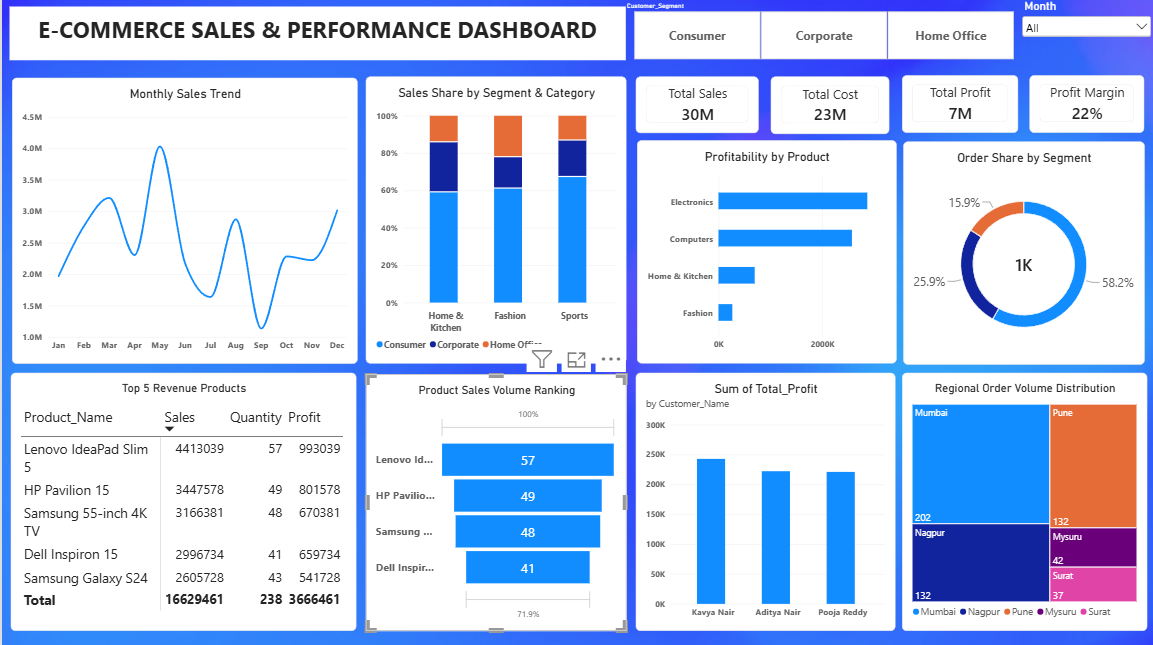

The dashboard page shown, as its layout file describes it:
{"tool":"powerbi","page":{"name":"Page 1","canvas":[1920,1080],"ordinal":0},"visuals":[{"type":"cardVisual","fields":{"Data":["Sum(Orders.Total_Sales)"]},"box":[1056.5,128.3,205,94],"z":0},{"type":"cardVisual","fields":{"Data":["Avg(Orders.Profit_Margin)"]},"box":[1713,126.1,191.3,95.7],"z":1000},{"type":"cardVisual","fields":{"Data":["Sum(Orders.Total_Cost)"]},"box":[1280.4,128.3,197.8,95.7],"z":2000},{"type":"cardVisual","fields":{"Data":["Sum(Orders.Total_Profit)"]},"box":[1500,126.1,193.5,95.7],"z":3000},{"type":"lineChart","title":"Monthly Sales Trend","fields":{"Category":["Date_Table.Month"],"Y":["Sum(Orders.Total_Sales)"]},"box":[17.4,130.4,576.1,477],"z":4000},{"type":"clusteredBarChart","title":"Profitability by Product","fields":{"Category":["Products.Category"],"Y":["Sum(Orders.Total_Profit)"]},"box":[1058.7,234.8,432.6,371.7],"z":5000},{"type":"donutChart","title":"Order Share by Segment","fields":{"Category":["Customers.Customer_Segment"],"Y":["CountNonNull(Orders.Order_ID)"]},"box":[1502.2,237,402.2,371.7],"z":6000},{"type":"clusteredColumnChart","fields":{"Category":["Customers.Customer_Name"],"Y":["Sum(Orders.Total_Profit)"]},"box":[1056.5,623.9,432.6,430.4],"z":7000},{"type":"slicer","fields":{"Values":["Date_Table.Month"]},"box":[1696.1,12.3,223.9,97.8],"z":8000},{"type":"pivotTable","title":"Top 5 Revenue Products","fields":{"Rows":["Products.Product_Name"],"Values":["Sum(Orders.Total_Sales)","Orders.Total Quantity","Sum(Orders.Total_Profit)"]},"box":[15.2,623.9,576.1,430.4],"z":9000},{"type":"hundredPercentStackedColumnChart","title":"Sales Share by Segment & Category","fields":{"Category":["Products.Category"],"Series":["Customers.Customer_Segment"],"Y":["Sum(Orders.Total_Sales)"]},"box":[606.5,128.3,434.8,478.3],"z":10000},{"type":"funnel","title":"Product Sales Volume Ranking","fields":{"Category":["Products.Product_Name"],"Y":["Orders.Total Quantity"]},"box":[606.7,624.4,435.6,428.9],"z":11000},{"type":"treemap","title":"Regional Order Volume Distribution","fields":{"Group":["Customers.City"],"Values":["Sum(Orders.Quantity)"]},"box":[1500,623.9,408.7,430.4],"z":12000},{"type":"slicer","fields":{"Values":["Customers.Customer_Segment"]},"box":[1033.3,4.2,671.7,97.8],"z":13000},{"type":"textbox","box":[12.5,12.5,1027.1,89.6],"z":16000}]}

Visuals, with their boxes in screenshot pixels (x1, y1, x2, y2), scaled from the page's 1920x1080 canvas onto the 1153x645 screenshot:
cardVisual - Sum(Orders.Total_Sales): [634,77,758,133]
cardVisual - Avg(Orders.Profit_Margin): [1029,75,1144,132]
cardVisual - Sum(Orders.Total_Cost): [769,77,888,134]
cardVisual - Sum(Orders.Total_Profit): [901,75,1017,132]
"Monthly Sales Trend" lineChart: [10,78,356,363]
"Profitability by Product" clusteredBarChart: [636,140,896,362]
"Order Share by Segment" donutChart: [902,142,1144,364]
clusteredColumnChart - Customers.Customer_Name x Sum(Orders.Total_Profit): [634,373,894,630]
slicer - Date_Table.Month: [1019,7,1152,66]
"Top 5 Revenue Products" pivotTable: [9,373,355,630]
"Sales Share by Segment & Category" hundredPercentStackedColumnChart: [364,77,625,362]
"Product Sales Volume Ranking" funnel: [364,373,626,629]
"Regional Order Volume Distribution" treemap: [901,373,1146,630]
slicer - Customers.Customer_Segment: [621,3,1024,61]
textbox: [8,7,624,61]
